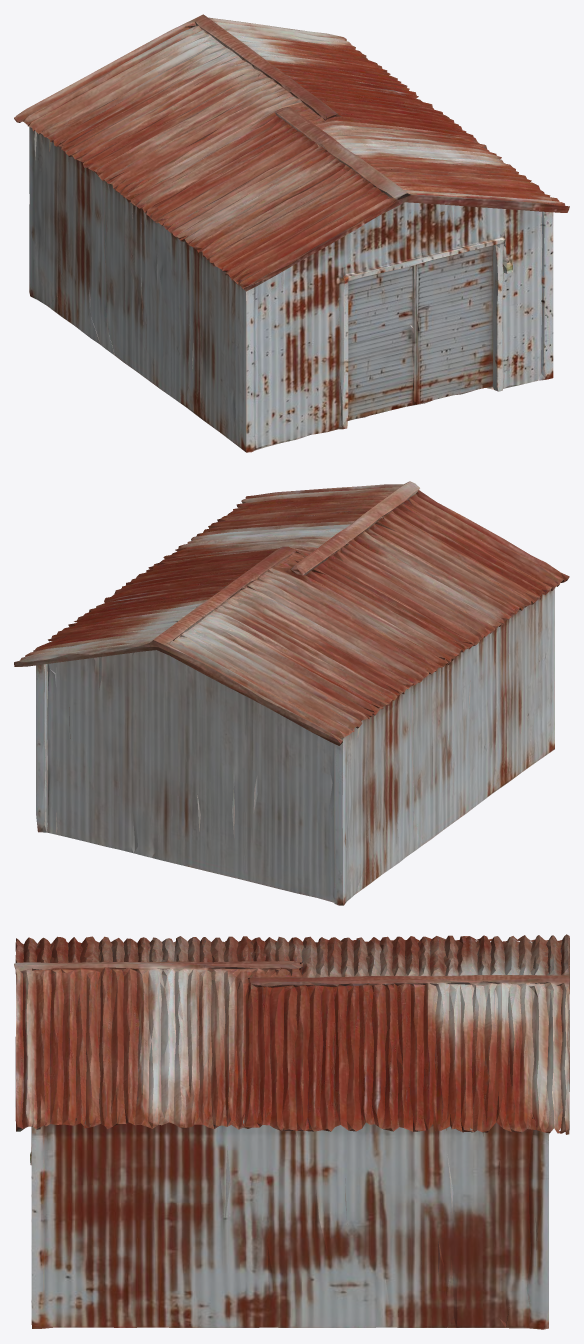
Rendered from warehouse.glb.
3 renders of one model, top to bottom at view 1: azimuth 30°, elevation 25°; view 2: azimuth 150°, elevation 25°; view 3: azimuth 270°, elevation 25°, orthographic. The views are drawn at different scales.
Visible parts, largest first — view 1: Mesh; view 2: Mesh; view 3: Mesh.
Boxes of the visible parts, bbox=[...] form: Mesh: bbox=[14, 14, 569, 452]; Mesh: bbox=[14, 481, 569, 905]; Mesh: bbox=[14, 934, 569, 1329].
Bounding box in the file's own units: 10.54 × 7 × 12.72.
1 material, 1 textured.
